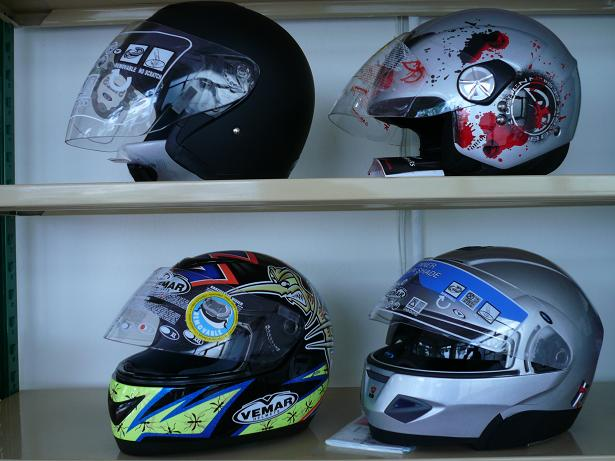helmet: (381, 243, 597, 430), (134, 250, 337, 434), (377, 14, 588, 164), (109, 24, 305, 170)
